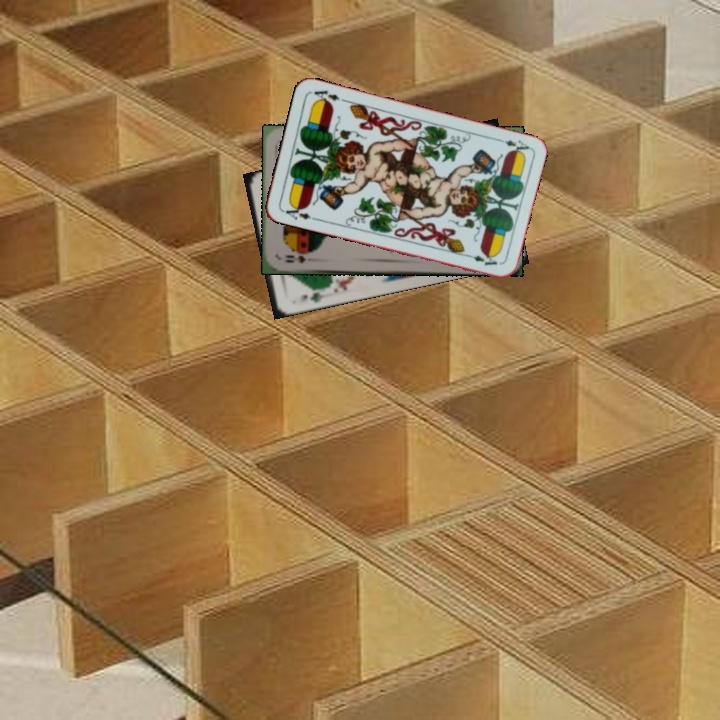EA: (492, 134, 532, 156), (282, 200, 313, 222)
GK: (295, 284, 326, 305)
SO: (280, 250, 312, 265)
